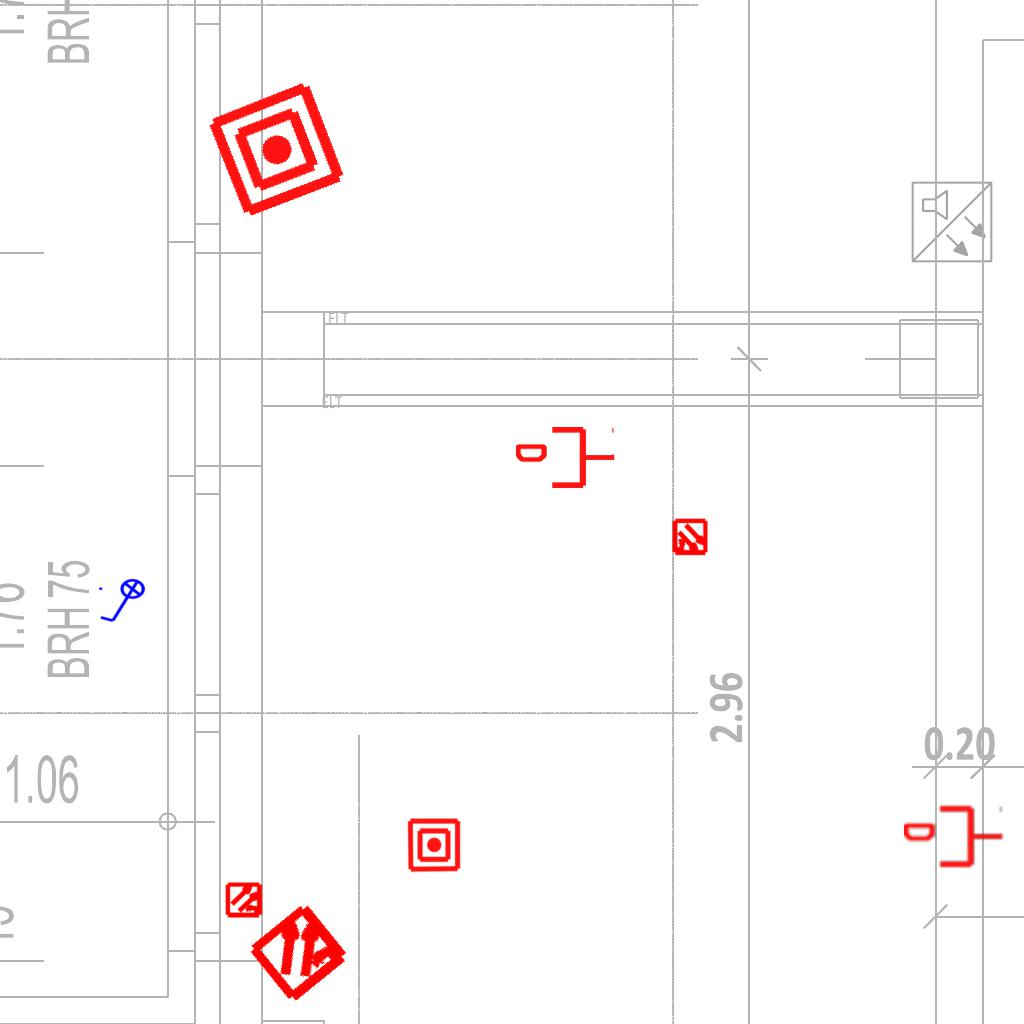Ausschalter_beleuchtet: (96, 578, 152, 626)
Datenanschluss_einfach: (904, 802, 1004, 871), (516, 423, 616, 492)
NAM-Nichtautomatischer_Melder: (203, 76, 350, 223), (406, 817, 462, 873)
OT_Multisensormelder_(Kombination_RMO_WMD): (221, 872, 380, 1024), (217, 872, 273, 928), (662, 510, 718, 566)
